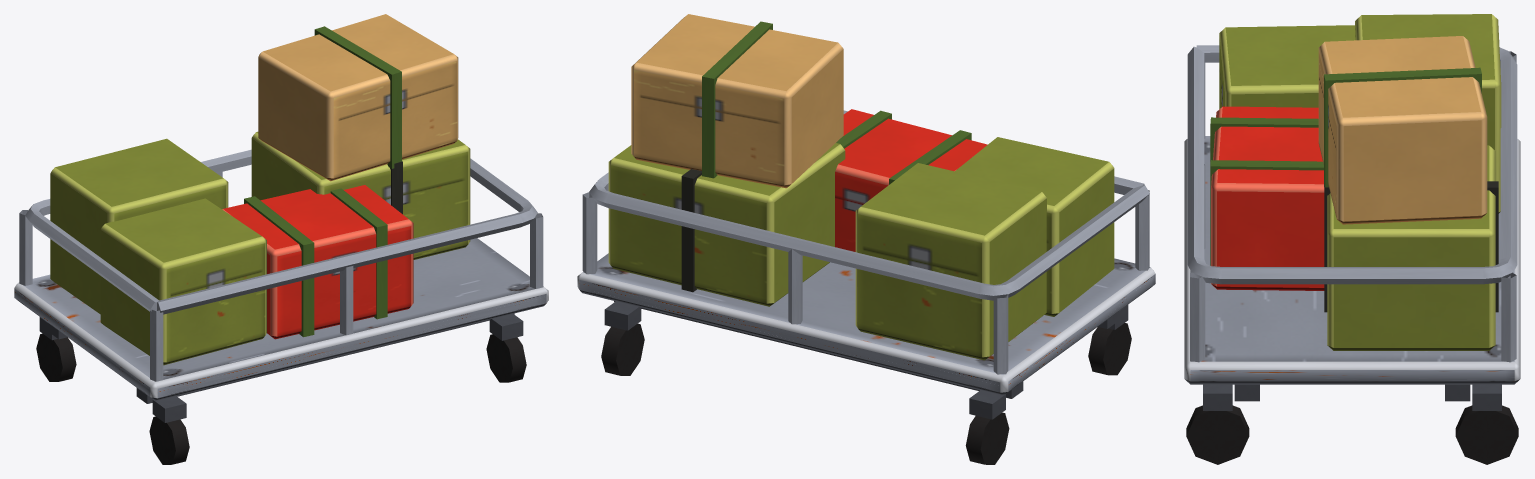
The model's file is Cart_Cargo.fbx.
The picture shows the model from 3 angles, left to right: view 1: azimuth 30°, elevation 25°; view 2: azimuth 150°, elevation 25°; view 3: azimuth 270°, elevation 25°; orthographic projection. The views are drawn at different scales.
Visible parts, largest first — view 1: Cart_Cargo_Load, Cart_Cargo_Body; view 2: Cart_Cargo_Load, Cart_Cargo_Body; view 3: Cart_Cargo_Load, Cart_Cargo_Body.
Part boxes in pixels (<box>): Cart_Cargo_Load: <box>50,14,470,365</box>; Cart_Cargo_Body: <box>14,149,548,464</box>; Cart_Cargo_Load: <box>608,14,1114,360</box>; Cart_Cargo_Body: <box>577,110,1155,464</box>; Cart_Cargo_Load: <box>1210,14,1501,350</box>; Cart_Cargo_Body: <box>1184,45,1520,464</box>.
Bounding box in the file's own units: 1.3 × 0.907 × 0.8.
1 material, 1 textured.
